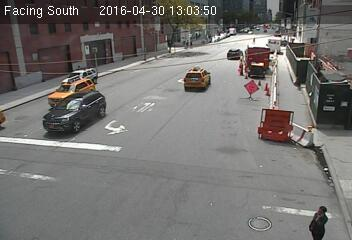neg: (24, 138, 64, 191), (172, 164, 206, 210), (54, 87, 88, 132), (125, 140, 158, 185), (270, 99, 300, 139), (133, 65, 160, 100), (234, 79, 260, 115), (72, 26, 98, 61), (236, 26, 261, 59), (208, 136, 230, 165), (170, 29, 190, 56), (193, 67, 213, 93)
pos: (305, 198, 334, 237)
